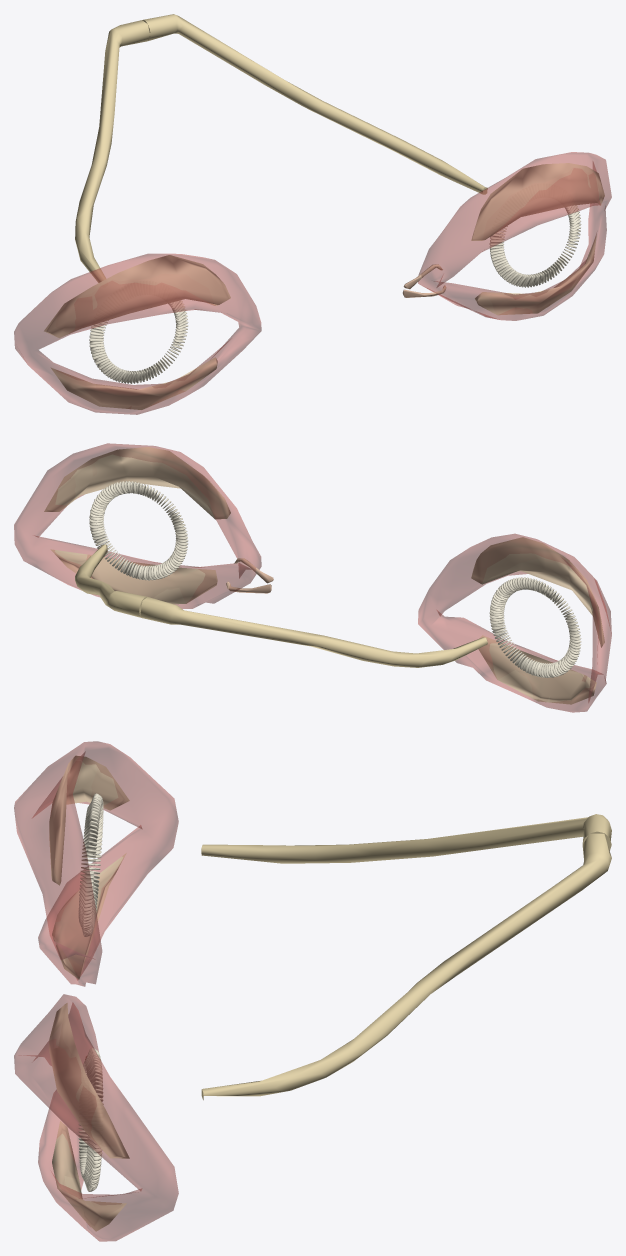
The model's file is zanatomy-eyedetail.glb.
3 renders of one model, top to bottom at view 1: azimuth 30°, elevation 25°; view 2: azimuth 150°, elevation 25°; view 3: azimuth 270°, elevation 25°, orthographic. The views are drawn at different scales.
Parts seen in each view (by area): view 1: za_orbicularis_palp_r, za_orbicularis_palp_l, za_tarsus_sup_r, za_optic_nerve_l, za_tarsus_sup_l, za_optic_nerve_r, za_tarsus_inf_r, za_zonule_r, za_tarsus_inf_l, za_zonule_l; view 2: za_orbicularis_palp_l, za_orbicularis_palp_r, za_tarsus_sup_l, za_optic_nerve_r, za_tarsus_sup_r, za_tarsus_inf_l, za_tarsus_inf_r, za_zonule_l, za_zonule_r, za_optic_nerve_l, za_lcanal_l; view 3: za_orbicularis_palp_r, za_orbicularis_palp_l, za_optic_nerve_l, za_optic_nerve_r, za_tarsus_sup_l, za_tarsus_sup_r, za_tarsus_inf_l, za_tarsus_inf_r, za_zonule_r, za_zonule_l.
Boxes of the visible parts, x1=… form: za_orbicularis_palp_r: x1=14, y1=253, x2=261, y2=414; za_orbicularis_palp_l: x1=418, y1=152, x2=611, y2=320; za_tarsus_sup_r: x1=44, y1=255, x2=230, y2=337; za_optic_nerve_l: x1=143, y1=14, x2=487, y2=194; za_tarsus_sup_l: x1=471, y1=163, x2=604, y2=240; za_optic_nerve_r: x1=75, y1=20, x2=150, y2=282; za_tarsus_inf_r: x1=51, y1=357, x2=217, y2=409; za_zonule_r: x1=89, y1=300, x2=188, y2=383; za_tarsus_inf_l: x1=475, y1=235, x2=596, y2=315; za_zonule_l: x1=489, y1=205, x2=581, y2=287; za_orbicularis_palp_l: x1=14, y1=443, x2=261, y2=608; za_orbicularis_palp_r: x1=418, y1=533, x2=611, y2=712; za_tarsus_sup_l: x1=44, y1=447, x2=230, y2=519; za_optic_nerve_r: x1=139, y1=597, x2=487, y2=667; za_tarsus_sup_r: x1=471, y1=537, x2=604, y2=647; za_tarsus_inf_l: x1=50, y1=549, x2=217, y2=604; za_tarsus_inf_r: x1=478, y1=635, x2=596, y2=704; za_zonule_l: x1=89, y1=481, x2=188, y2=580; za_zonule_r: x1=489, y1=577, x2=581, y2=677; za_optic_nerve_l: x1=75, y1=544, x2=147, y2=617; za_lcanal_l: x1=226, y1=558, x2=273, y2=593; za_orbicularis_palp_r: x1=14, y1=741, x2=178, y2=986; za_orbicularis_palp_l: x1=14, y1=994, x2=178, y2=1241; za_optic_nerve_l: x1=201, y1=831, x2=611, y2=1100; za_optic_nerve_r: x1=201, y1=814, x2=611, y2=863; za_tarsus_sup_l: x1=49, y1=1003, x2=129, y2=1158; za_tarsus_sup_r: x1=49, y1=755, x2=129, y2=885; za_tarsus_inf_l: x1=52, y1=1121, x2=126, y2=1231; za_tarsus_inf_r: x1=52, y1=853, x2=126, y2=979; za_zonule_r: x1=78, y1=793, x2=103, y2=936; za_zonule_l: x1=78, y1=1048, x2=103, y2=1191.
Bounding box in the file's own units: 0.0928 × 0.0303 × 0.0619.
